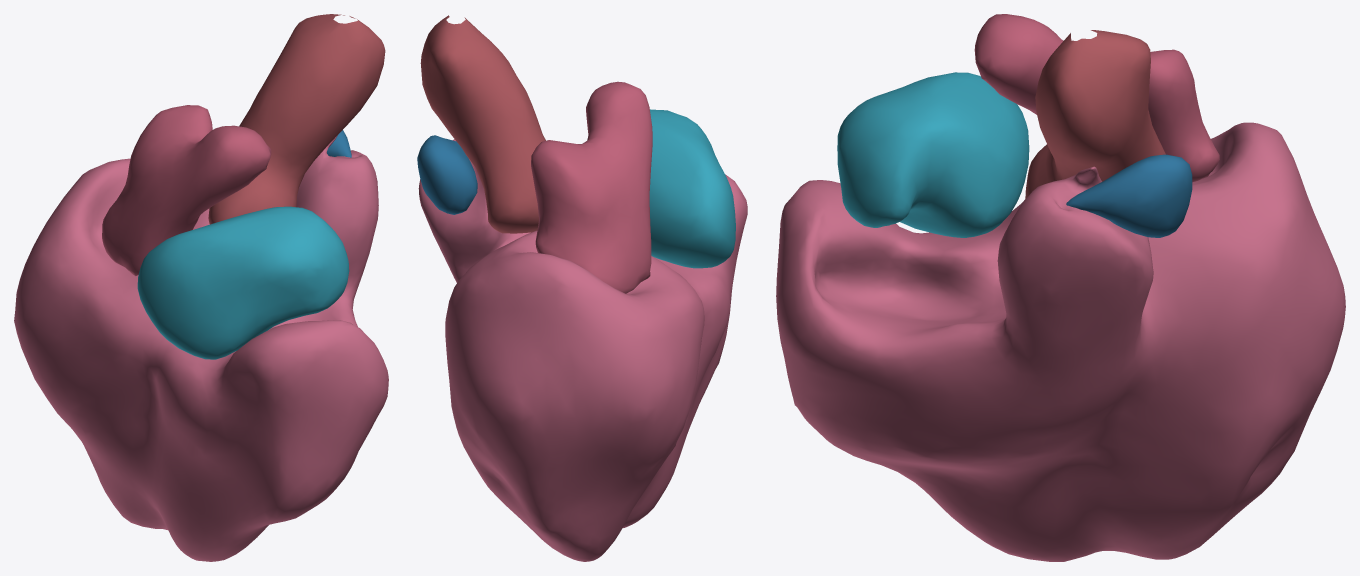
File: frame_12.glb
3 renders of one model, left to right at view 1: azimuth 30°, elevation 25°; view 2: azimuth 150°, elevation 25°; view 3: azimuth 270°, elevation 25°, orthographic. The views are drawn at different scales.
Visible parts, largest first — view 1: Renderer Node; view 2: Renderer Node; view 3: Renderer Node.
Part boxes in pixels (x1,y1,x2,y2): Renderer Node: (14, 14, 388, 561); Renderer Node: (417, 15, 747, 561); Renderer Node: (776, 14, 1345, 561).
Bounding box in the file's own units: 103 × 158 × 131.
